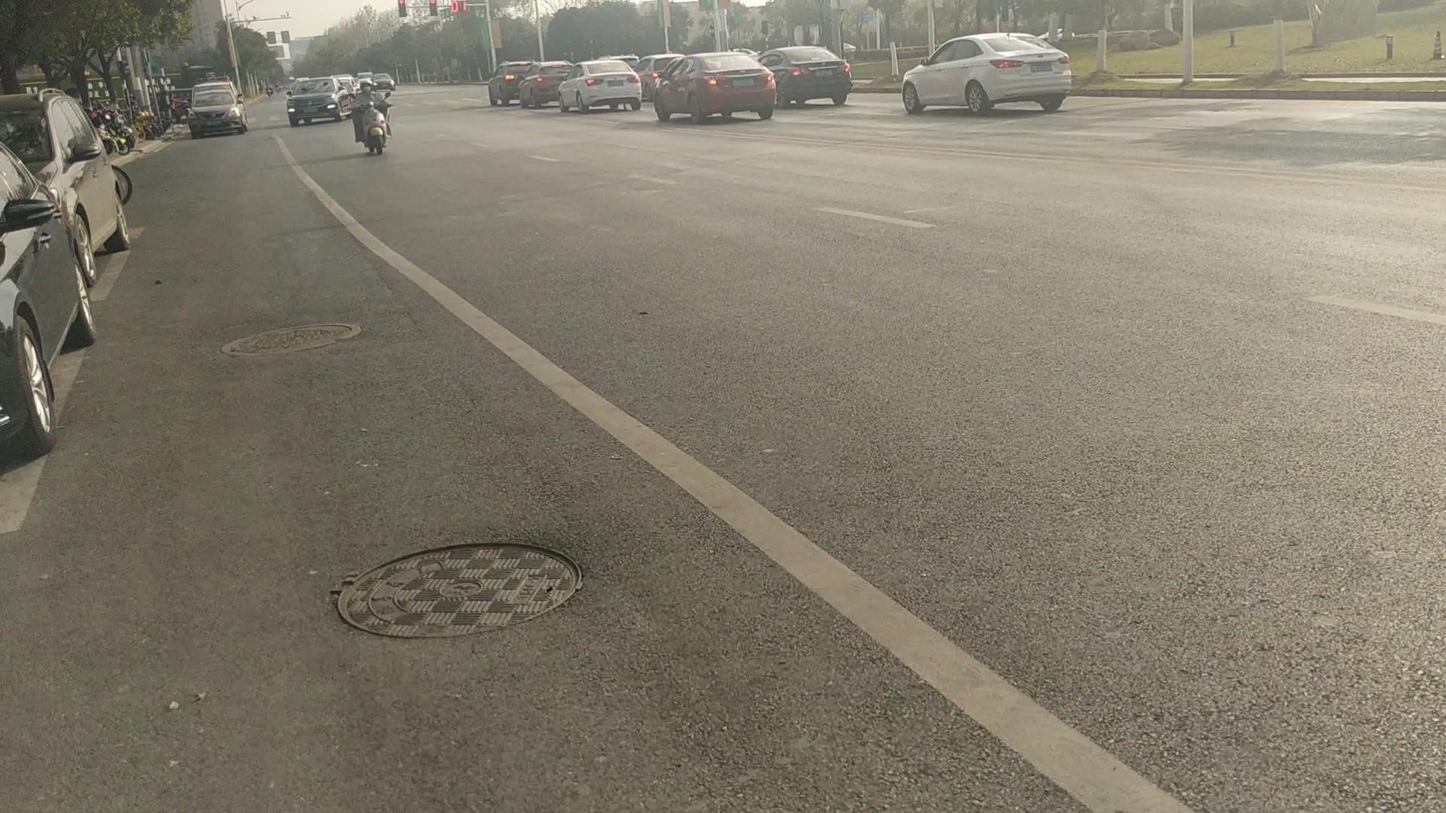car: (0, 138, 101, 470), (0, 85, 134, 270), (899, 32, 1073, 116), (649, 51, 775, 123), (758, 45, 854, 108), (557, 60, 642, 114), (188, 81, 246, 137), (285, 76, 343, 126), (521, 60, 573, 108), (633, 53, 689, 96), (487, 61, 535, 105)
